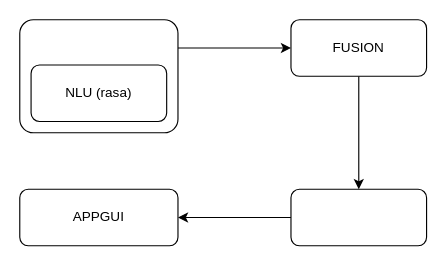
This 446x266 diagram has some shape labels left out. The shapes that lost their labels are listed below. From the top down, each one's box as (x1, y1, x2, y2) in pixels, then its label:
(19, 19, 178, 133): SPEECH MODALITY
(290, 188, 427, 246): Interaction Manager
